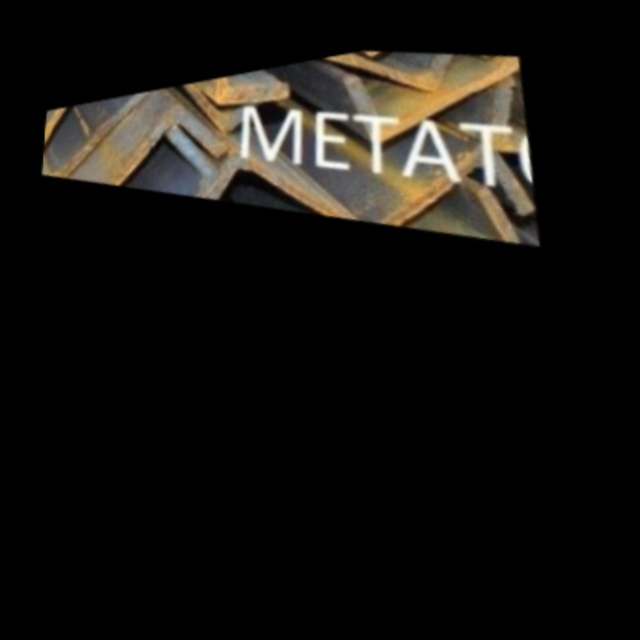Shveller: (345, 24, 535, 170), (40, 89, 160, 203), (302, 33, 470, 112), (142, 71, 258, 143), (42, 98, 115, 172), (211, 65, 290, 112)
